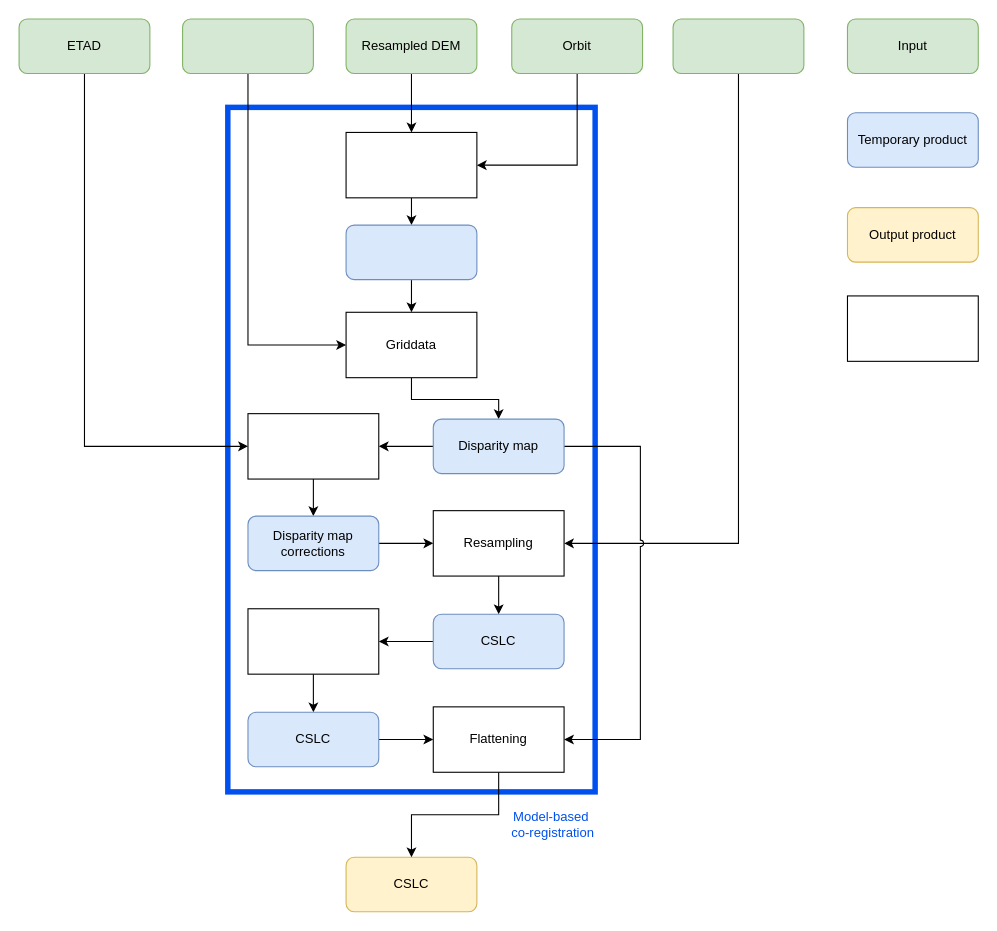
The diagram is 997 pixels wide and 931 high, and some of its shapes have lost their labels. Here are the shapes that lost their labels. From the top down, the centre of each, then its label:
At (x=247, y=46): "Reference association matrix".
At (x=738, y=46): "SLC".
At (x=411, y=164): "Coordinates conversion".
At (x=411, y=252): "Secondary association matrix".
At (x=912, y=328): "Processing block".
At (x=313, y=446): "Disparity map correction".
At (x=313, y=641): "Reramping".
